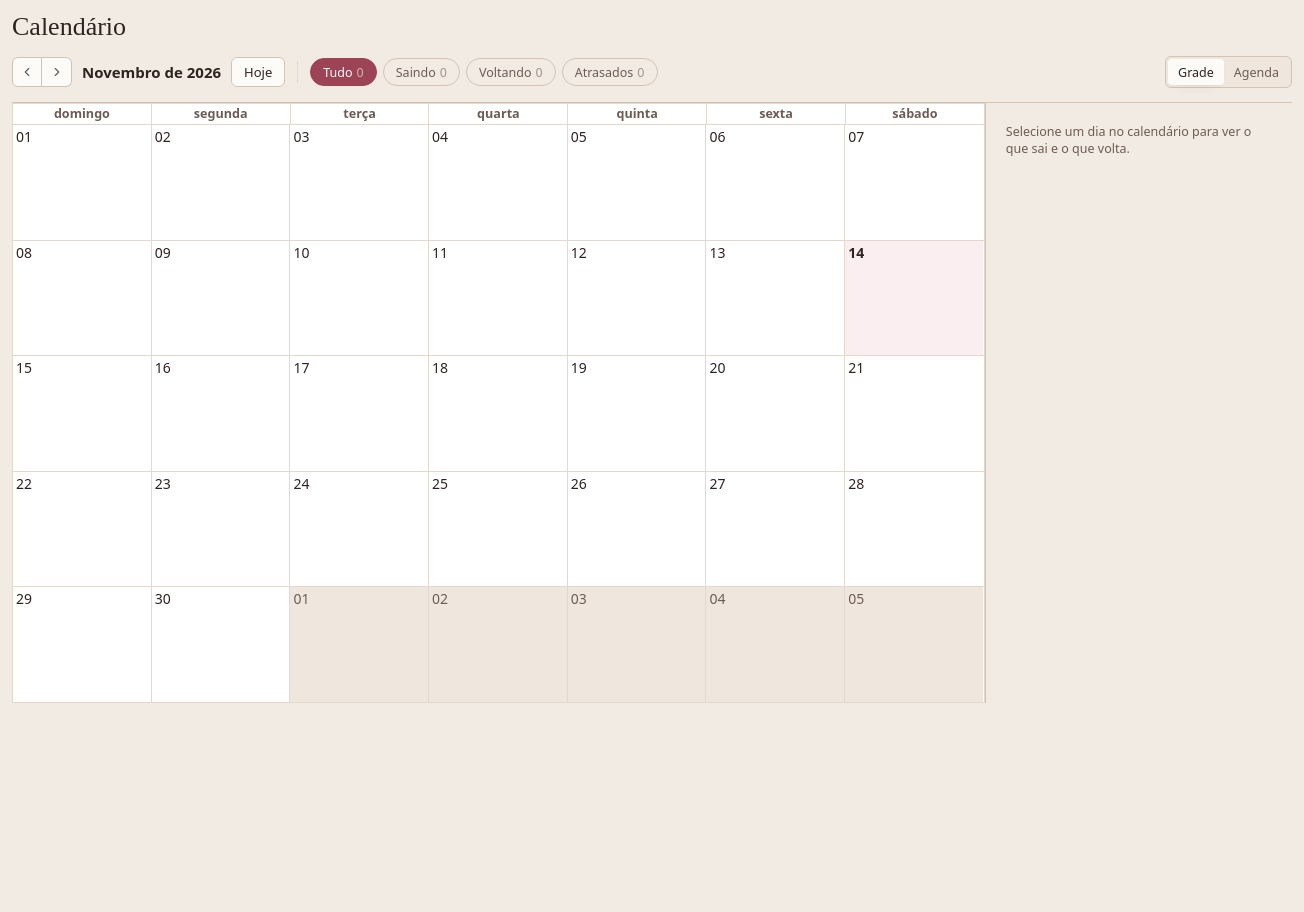
Test: CalendarPage › switches the main area between grid and agenda without renaming the control
Expected: the table with class "rbc-month-view" is shown, [12,103,985,703]
Step 1. Click the button "Agenda" → coordinates (1256, 72), box [1224,59,1289,85]
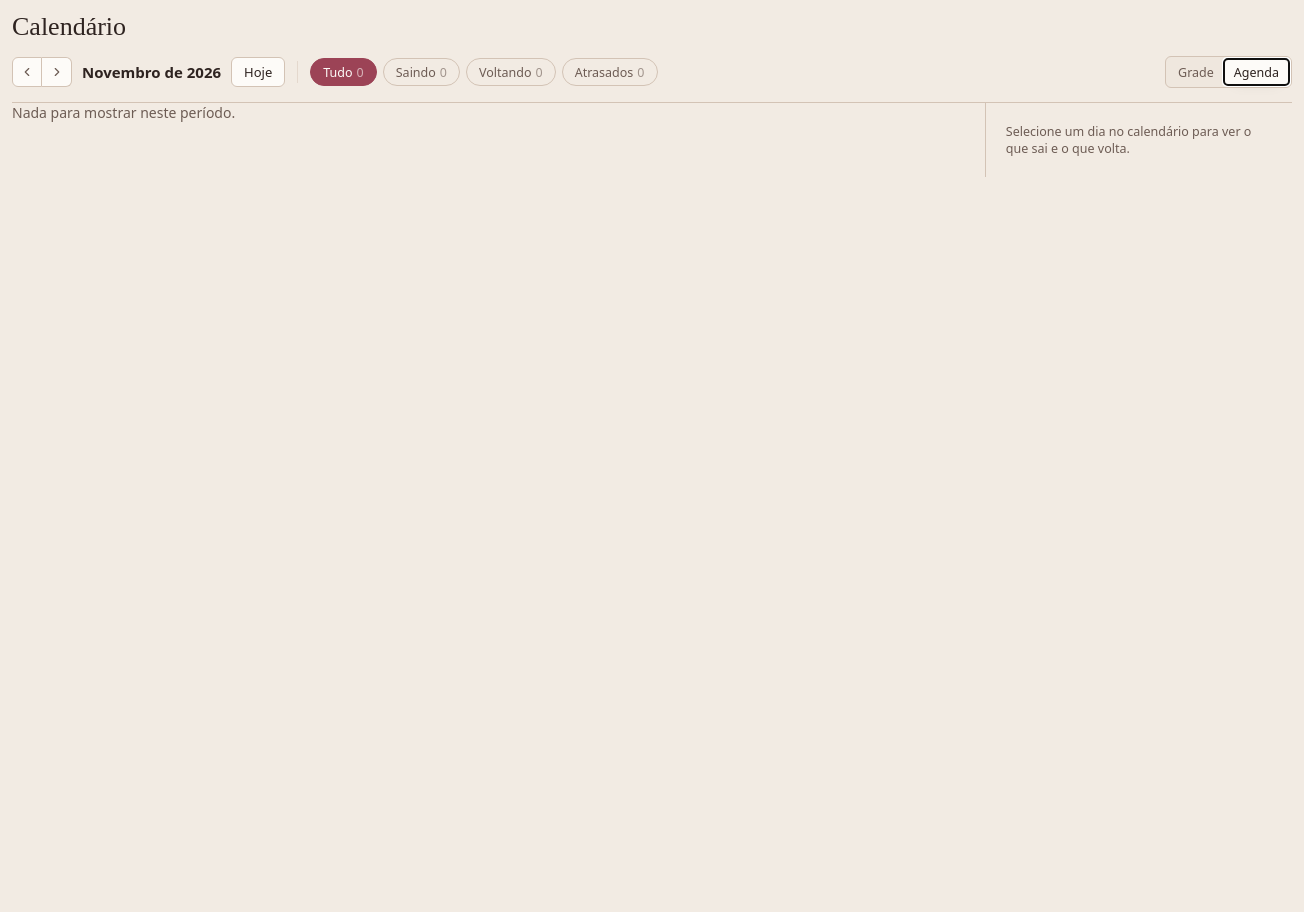
Expected: the table with class "rbc-month-view" is gone
Step 2. Click the button "Grade" → coordinates (1196, 72), box [1168,59,1224,85]
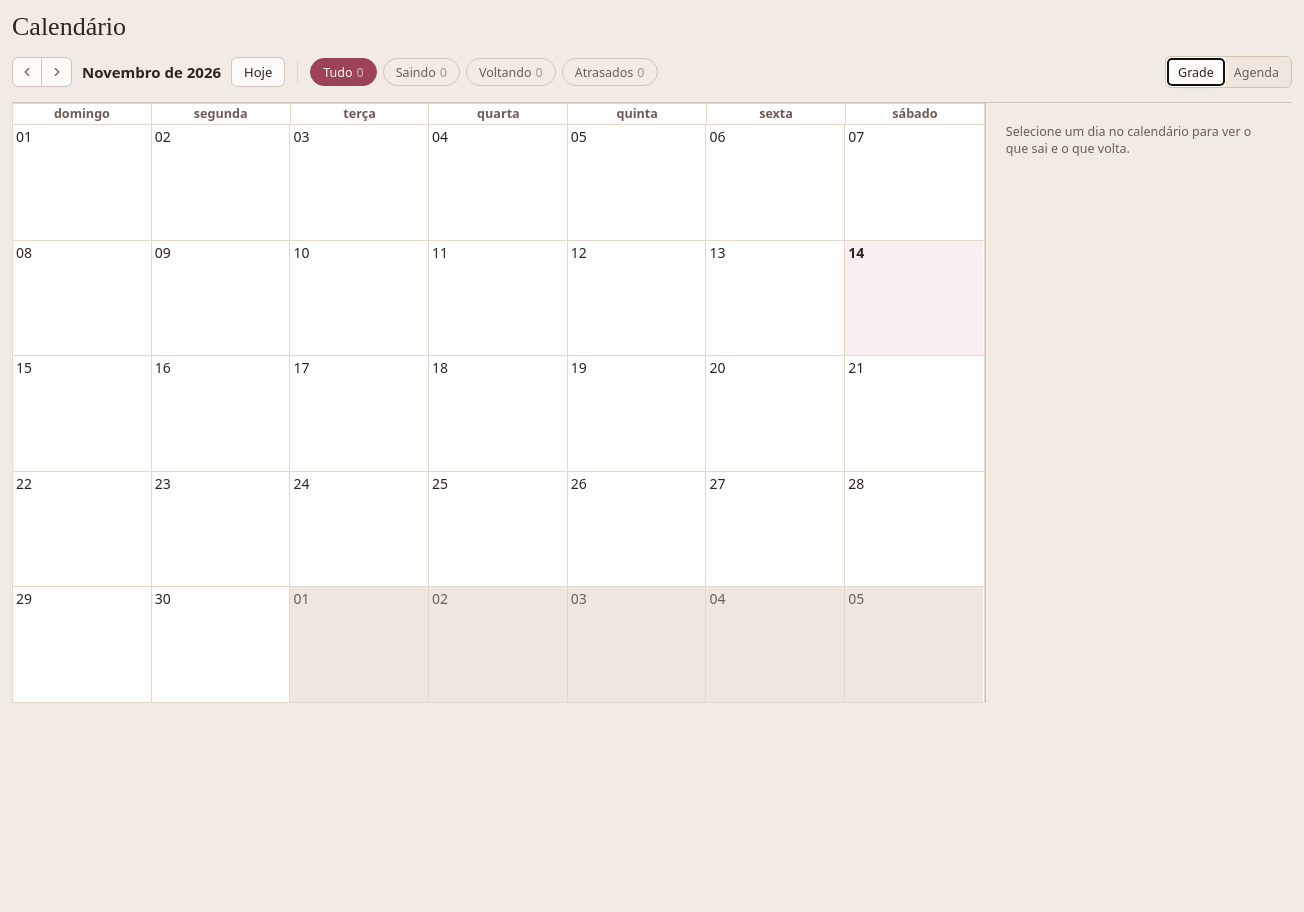
Expected: the table with class "rbc-month-view" is shown, [12,103,985,703]
